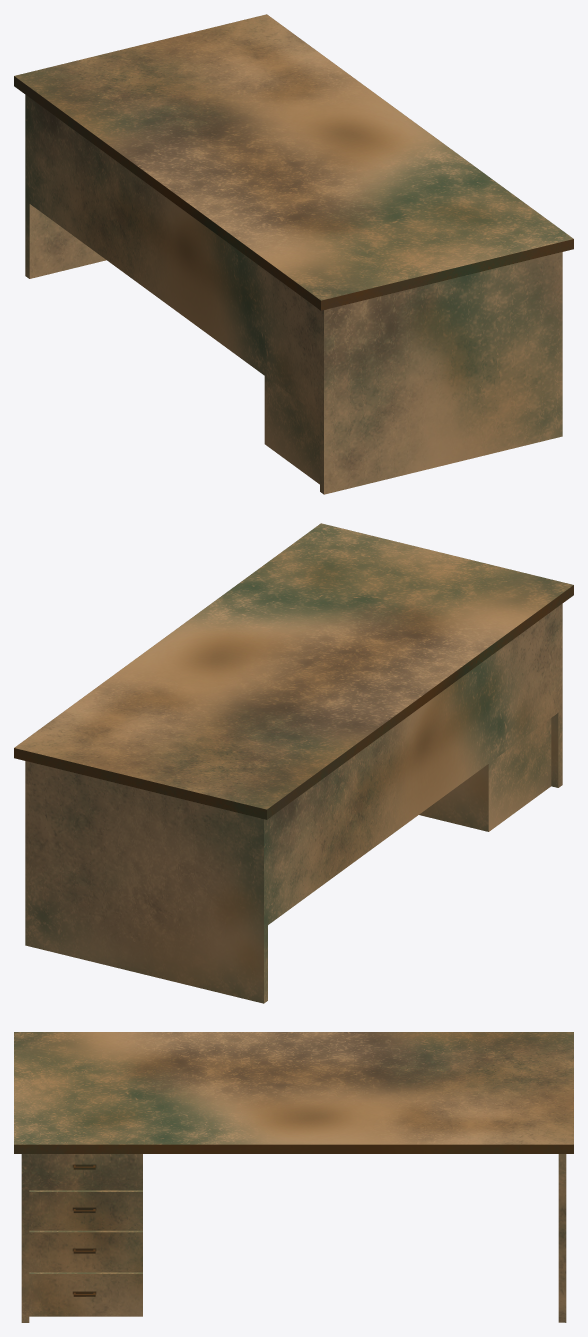
The model's file is Office Table.FBX.
3 views of the same model, one above another, from view 1: azimuth 30°, elevation 25°; view 2: azimuth 150°, elevation 25°; view 3: azimuth 270°, elevation 25° (orthographic). The views are drawn at different scales.
Parts seen in each view (by area): view 1: Box001; view 2: Box001; view 3: Box001.
Part boxes in pixels (<box>): Box001: <box>14,14,573,494</box>; Box001: <box>14,523,573,1003</box>; Box001: <box>14,1032,573,1322</box>.
Size of the model in its own units: 35.09 by 26.35 by 73.77.
1 material, 1 textured.
